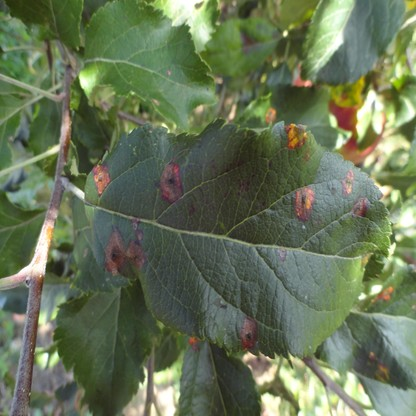rust: (104, 219, 145, 276), (159, 162, 183, 202), (295, 185, 315, 220), (367, 350, 386, 383), (284, 123, 306, 149), (240, 318, 256, 350), (94, 164, 111, 192), (371, 286, 392, 301), (341, 170, 353, 194), (353, 198, 367, 217), (264, 108, 275, 122), (190, 334, 199, 351)
